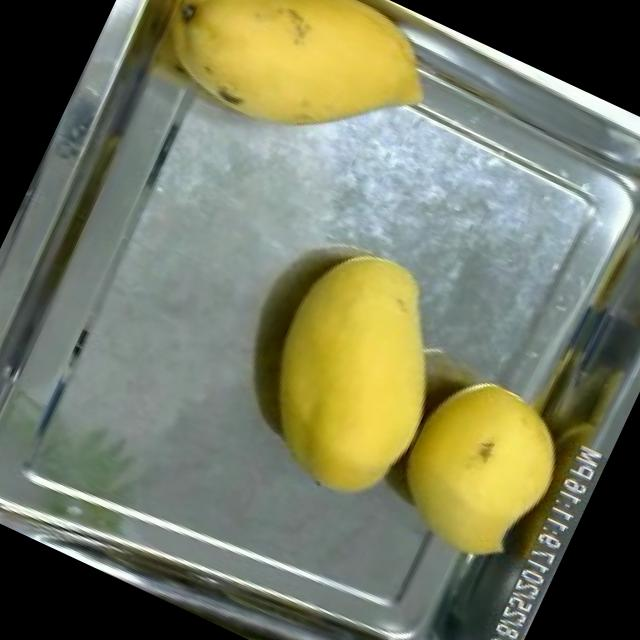fruit: (218, 218, 491, 528), (132, 0, 459, 193), (367, 350, 587, 584)
